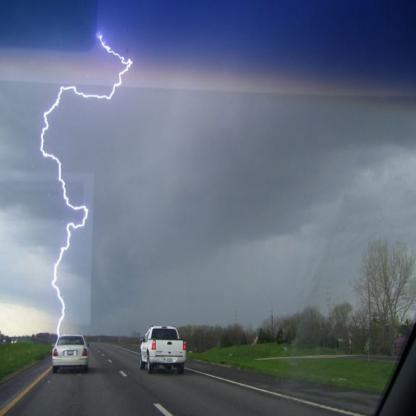Car: (137, 328, 184, 374), (51, 333, 91, 373)
Truck: (135, 329, 187, 375)
